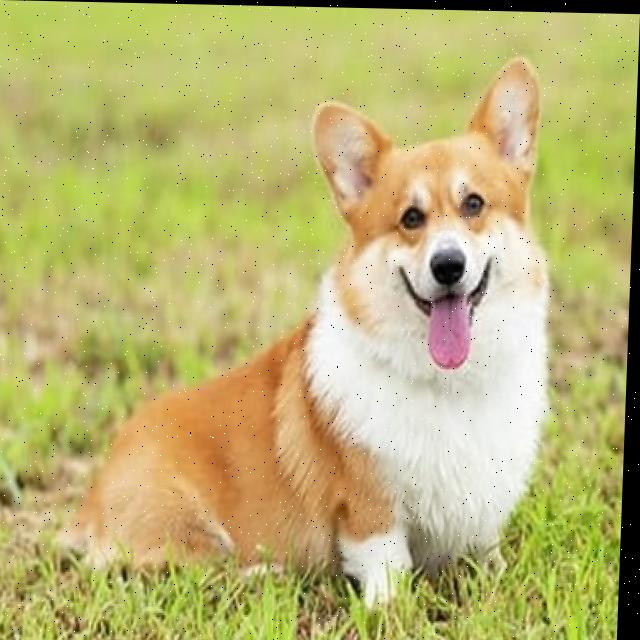CORGI: (54, 38, 566, 613)
